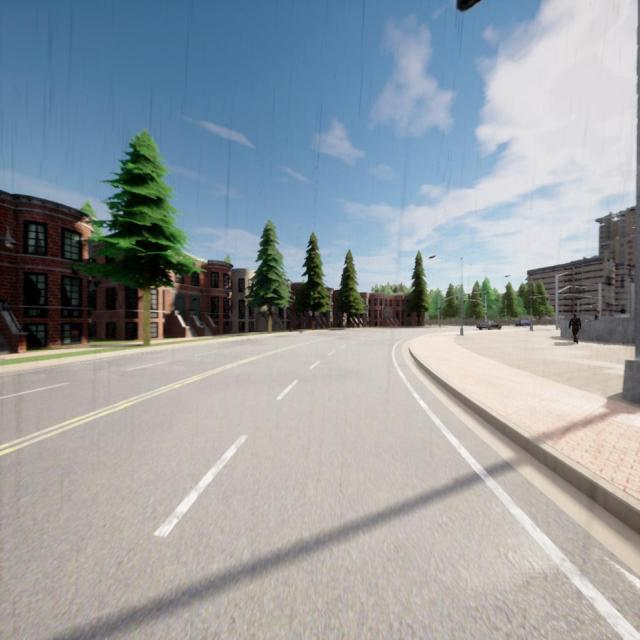Pedestrian: (569, 312, 581, 344), (594, 308, 601, 321)
Vehicle: (476, 320, 502, 331), (515, 319, 532, 327)
traffic_light: (479, 292, 482, 298), (456, 296, 458, 300), (564, 294, 566, 298), (468, 294, 470, 298), (533, 297, 536, 299), (546, 296, 548, 298)
